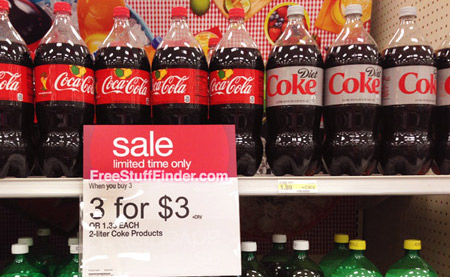coke: (266, 8, 325, 175), (38, 5, 94, 179), (329, 7, 382, 176), (387, 7, 436, 171), (208, 7, 264, 124), (96, 8, 151, 123), (157, 8, 207, 123), (1, 5, 30, 170)
